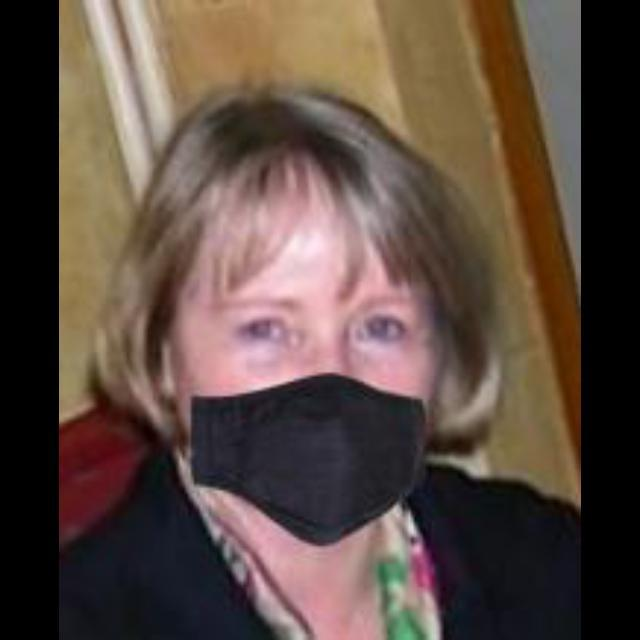suspicion: (149, 120, 457, 548)
